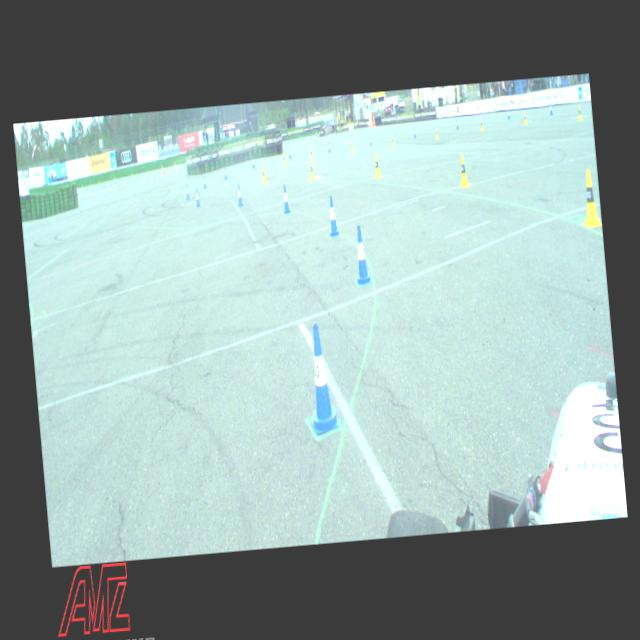blue_cone: (304, 324, 339, 434), (350, 225, 372, 285), (326, 196, 338, 236), (281, 183, 290, 212), (236, 183, 243, 206), (194, 188, 200, 206), (186, 184, 190, 199), (202, 175, 206, 188), (548, 102, 552, 114), (412, 127, 416, 138), (288, 148, 292, 159), (368, 136, 372, 146), (224, 167, 227, 178), (327, 142, 330, 152), (507, 110, 510, 120), (252, 157, 254, 168), (456, 120, 458, 128)
yellow_cone: (577, 168, 602, 228), (458, 154, 468, 187), (373, 154, 380, 177), (309, 160, 314, 178), (262, 164, 266, 182), (577, 106, 582, 120), (282, 152, 286, 166), (523, 112, 527, 124), (434, 128, 438, 138), (391, 136, 394, 146), (350, 141, 353, 151), (480, 120, 483, 130), (310, 148, 312, 158)
